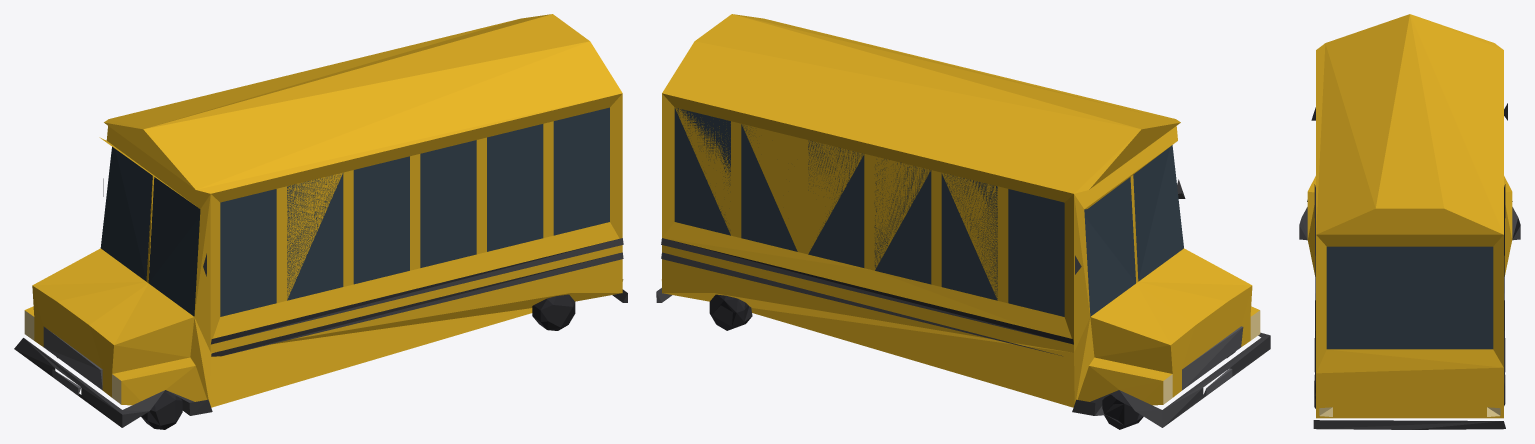
The model's file is schoolbus.glb.
The picture shows the model from 3 angles, left to right: view 1: azimuth 30°, elevation 25°; view 2: azimuth 150°, elevation 25°; view 3: azimuth 270°, elevation 25°; orthographic projection. The views are drawn at different scales.
Visible parts, largest first — view 1: SchoolBus, BackWheels, FrontWheels; view 2: SchoolBus, BackWheels, FrontWheels; view 3: SchoolBus.
Part boxes in pixels (left/top/right/bottom): SchoolBus: left=14, top=14, right=627, bottom=427; BackWheels: left=532, top=294, right=575, bottom=330; FrontWheels: left=57, top=357, right=182, bottom=429; SchoolBus: left=656, top=14, right=1270, bottom=427; BackWheels: left=709, top=294, right=752, bottom=330; FrontWheels: left=1102, top=351, right=1235, bottom=429; SchoolBus: left=1299, top=14, right=1520, bottom=429.
Bounding box in the file's own units: 4.61 × 2.19 × 1.88.
